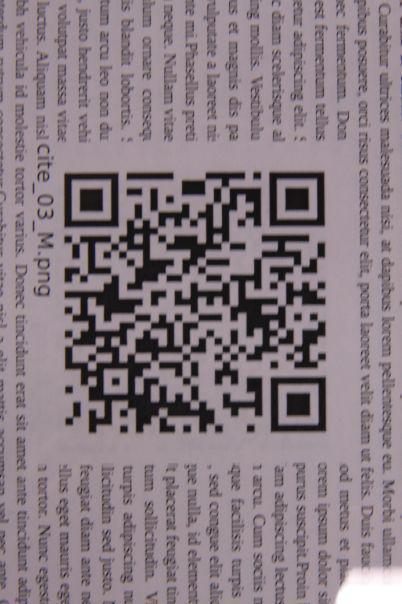qr_code: (64, 171, 326, 433)
